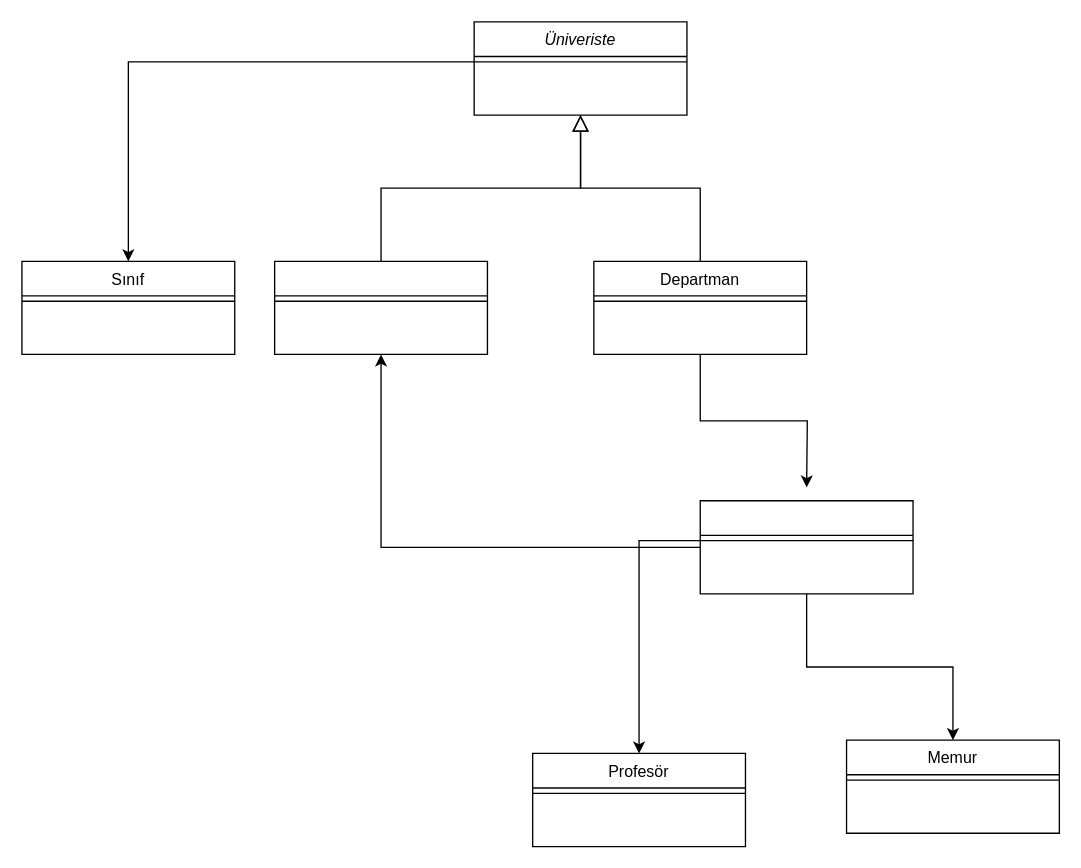
This 1081x868 diagram has some shape labels left out. The centre of each missing label's shape, as x and y in pixels:
"Ofis" goes at pixel 380 307.
"Çalışan" goes at pixel 806 546.
